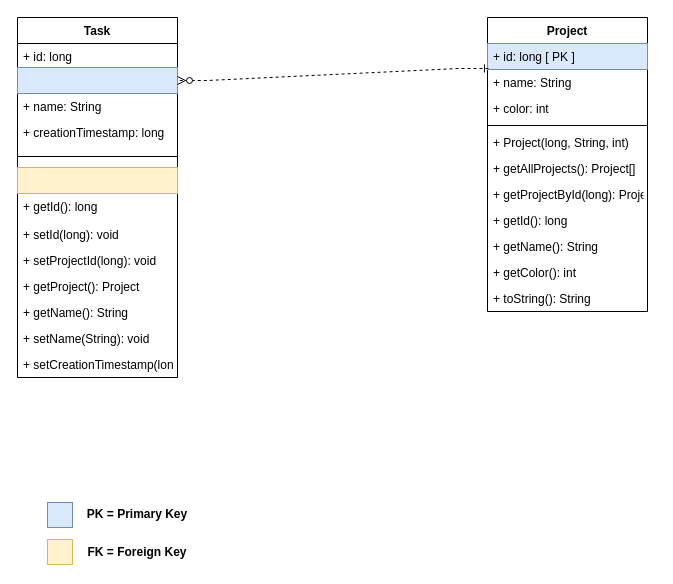
Some shapes in this 673 by 584 pixel diagram are drawn without their labels. Here are the shapes that lost their labels. From the top down, the box of each, then its label:
(16, 66, 178, 94): + projectId: attribute [ PK ]
(16, 166, 178, 194): + Task(long, long, String, long) [ FK ]
